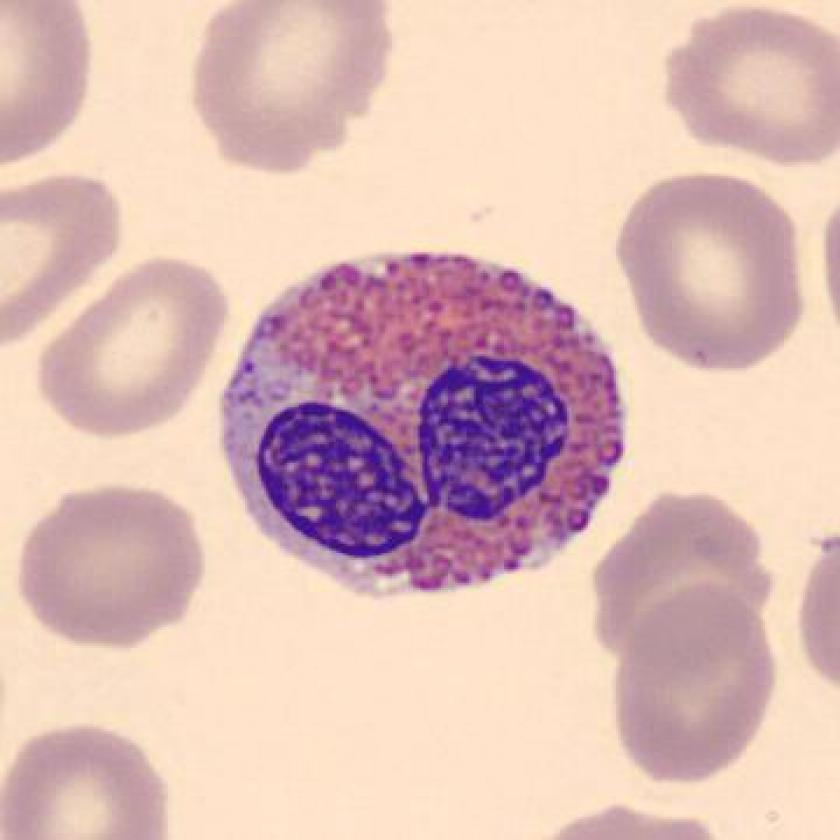eosinophil: (204, 235, 643, 614)
